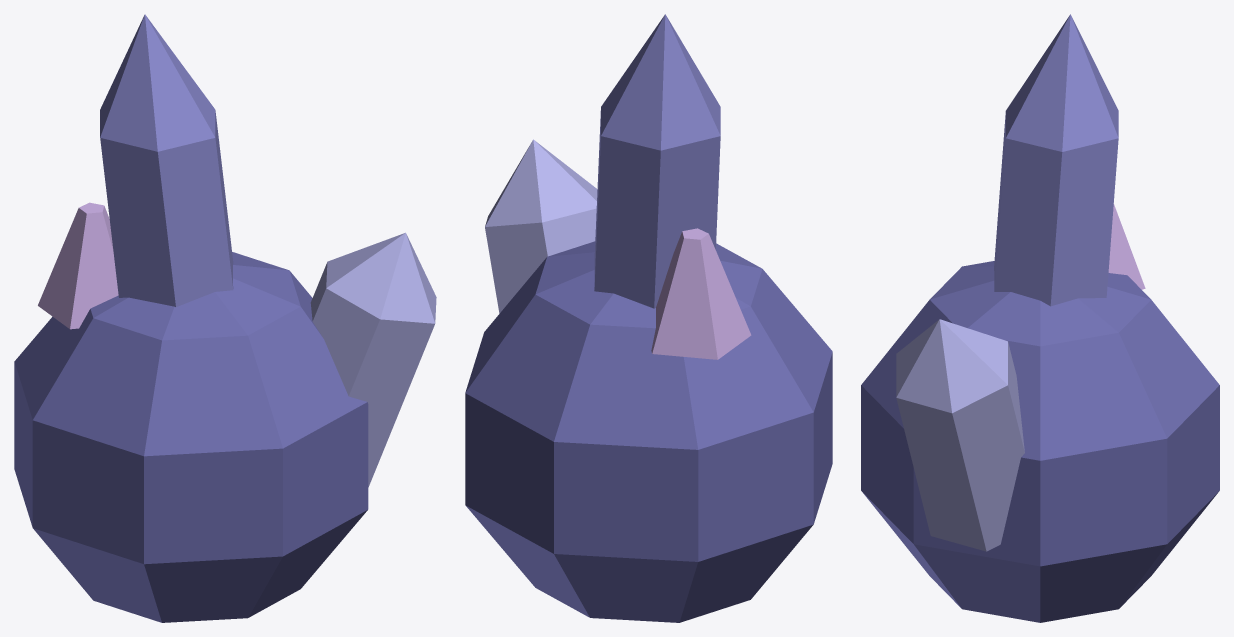
The model's file is cryst_umb_item_flat.glb.
The picture shows the model from 3 angles, left to right: view 1: azimuth 30°, elevation 25°; view 2: azimuth 150°, elevation 25°; view 3: azimuth 270°, elevation 25°; orthographic projection. The views are drawn at different scales.
Visible parts, largest first — view 1: IndigoOrb, IndigoCrystal1, IndigoCrystal2, ShadowWisp; view 2: IndigoOrb, IndigoCrystal1, IndigoCrystal2, ShadowWisp; view 3: IndigoOrb, IndigoCrystal1, IndigoCrystal2, ShadowWisp.
Boxes of the visible parts, <box> form: IndigoOrb: <box>14,252,368,622</box>; IndigoCrystal1: <box>100,14,233,306</box>; IndigoCrystal2: <box>310,232,436,487</box>; ShadowWisp: <box>38,202,118,329</box>; IndigoOrb: <box>465,241,832,622</box>; IndigoCrystal1: <box>594,14,720,308</box>; IndigoCrystal2: <box>485,139,597,313</box>; ShadowWisp: <box>651,228,751,359</box>; IndigoOrb: <box>861,261,1219,622</box>; IndigoCrystal1: <box>994,14,1118,306</box>; IndigoCrystal2: <box>896,319,1024,551</box>; ShadowWisp: <box>1108,204,1145,289</box>.
Bounding box in the file's own units: 0.0376 × 0.0594 × 0.0333.
